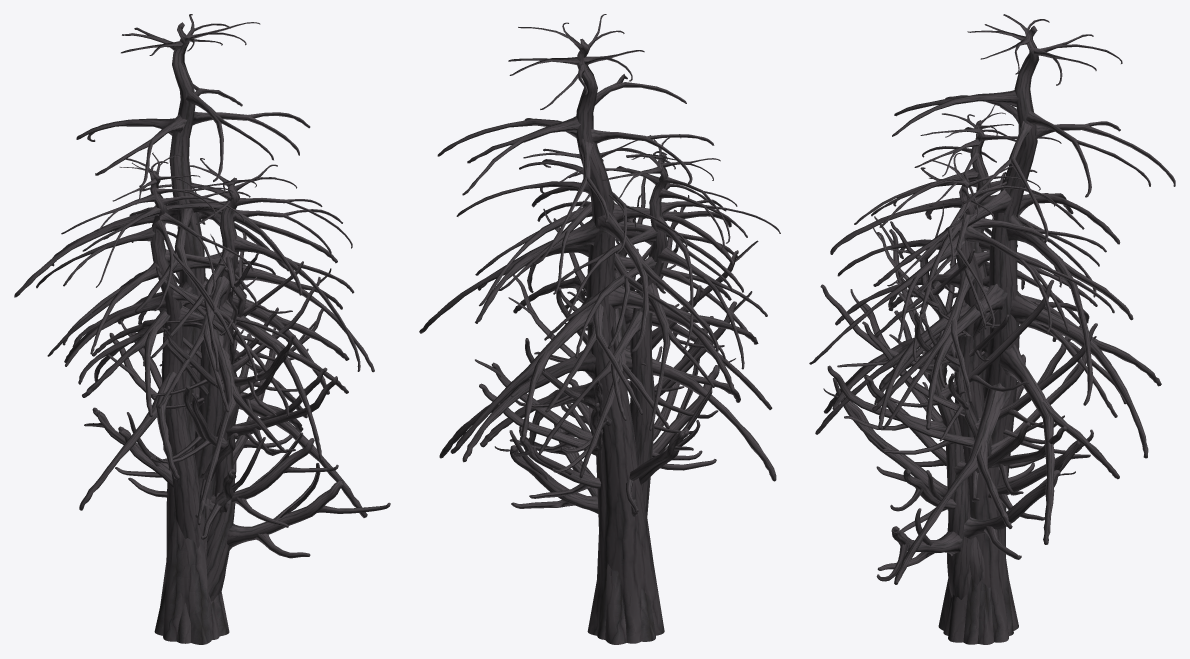
File: deadtree.glb
3 renders of one model, left to right at view 1: azimuth 30°, elevation 25°; view 2: azimuth 150°, elevation 25°; view 3: azimuth 270°, elevation 25°, orthographic. The views are drawn at different scales.
Parts seen in each view (by area): view 1: DeadTree_5, DeadTree_4, DeadTree_2, DeadTree_3, DeadTree_1; view 2: DeadTree_5, DeadTree_4, DeadTree_3, DeadTree_2, DeadTree_1; view 3: DeadTree_5, DeadTree_4, DeadTree_2, DeadTree_1, DeadTree_3.
Part boxes in pixels (box(x1,y1,x2,y2)): DeadTree_5: box(14, 14, 367, 644); DeadTree_4: box(62, 158, 374, 643); DeadTree_2: box(118, 232, 390, 601); DeadTree_3: box(36, 152, 289, 548); DeadTree_1: box(84, 272, 338, 535); DeadTree_5: box(419, 14, 776, 643); DeadTree_4: box(456, 140, 772, 644); DeadTree_3: box(532, 135, 780, 516); DeadTree_2: box(475, 177, 758, 516); DeadTree_1: box(479, 248, 713, 512); DeadTree_5: box(830, 14, 1175, 644); DeadTree_4: box(809, 153, 1126, 644); DeadTree_2: box(820, 203, 1081, 599); DeadTree_1: box(862, 275, 1097, 585); DeadTree_3: box(854, 105, 1117, 643).
Size of what is drawn, in the model's own units: 8.57 by 16.44 by 8.93.
Materials: 1 (1 with a texture image).
